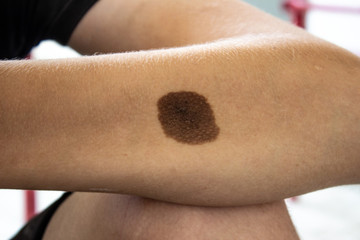melanoma: (145, 77, 238, 155)
